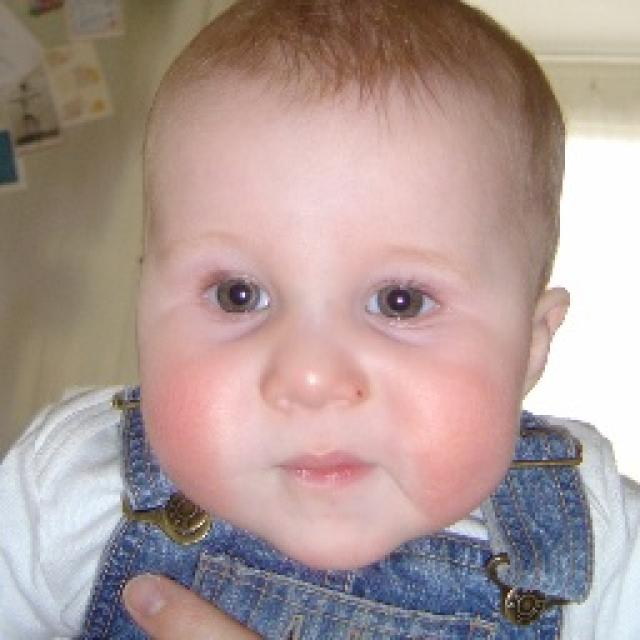earlobe: (520, 384, 530, 408)
eye: (200, 268, 276, 318), (360, 280, 439, 321)
nose: (264, 389, 362, 444)
wholeear: (523, 286, 573, 406)
